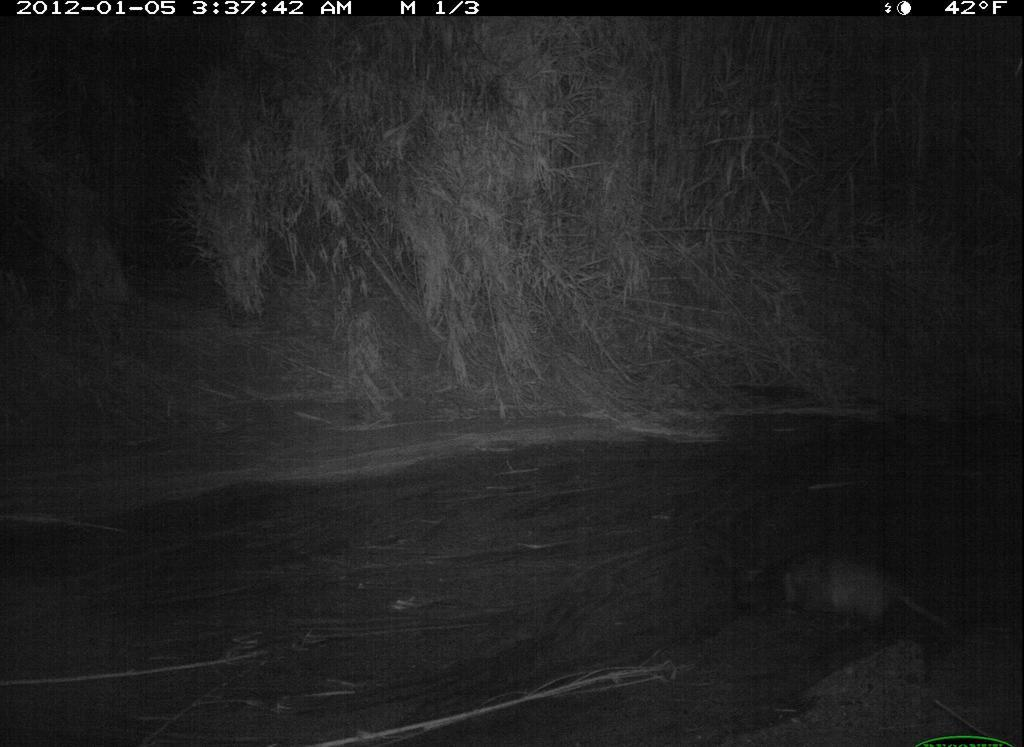opossum: (763, 538, 976, 678)
